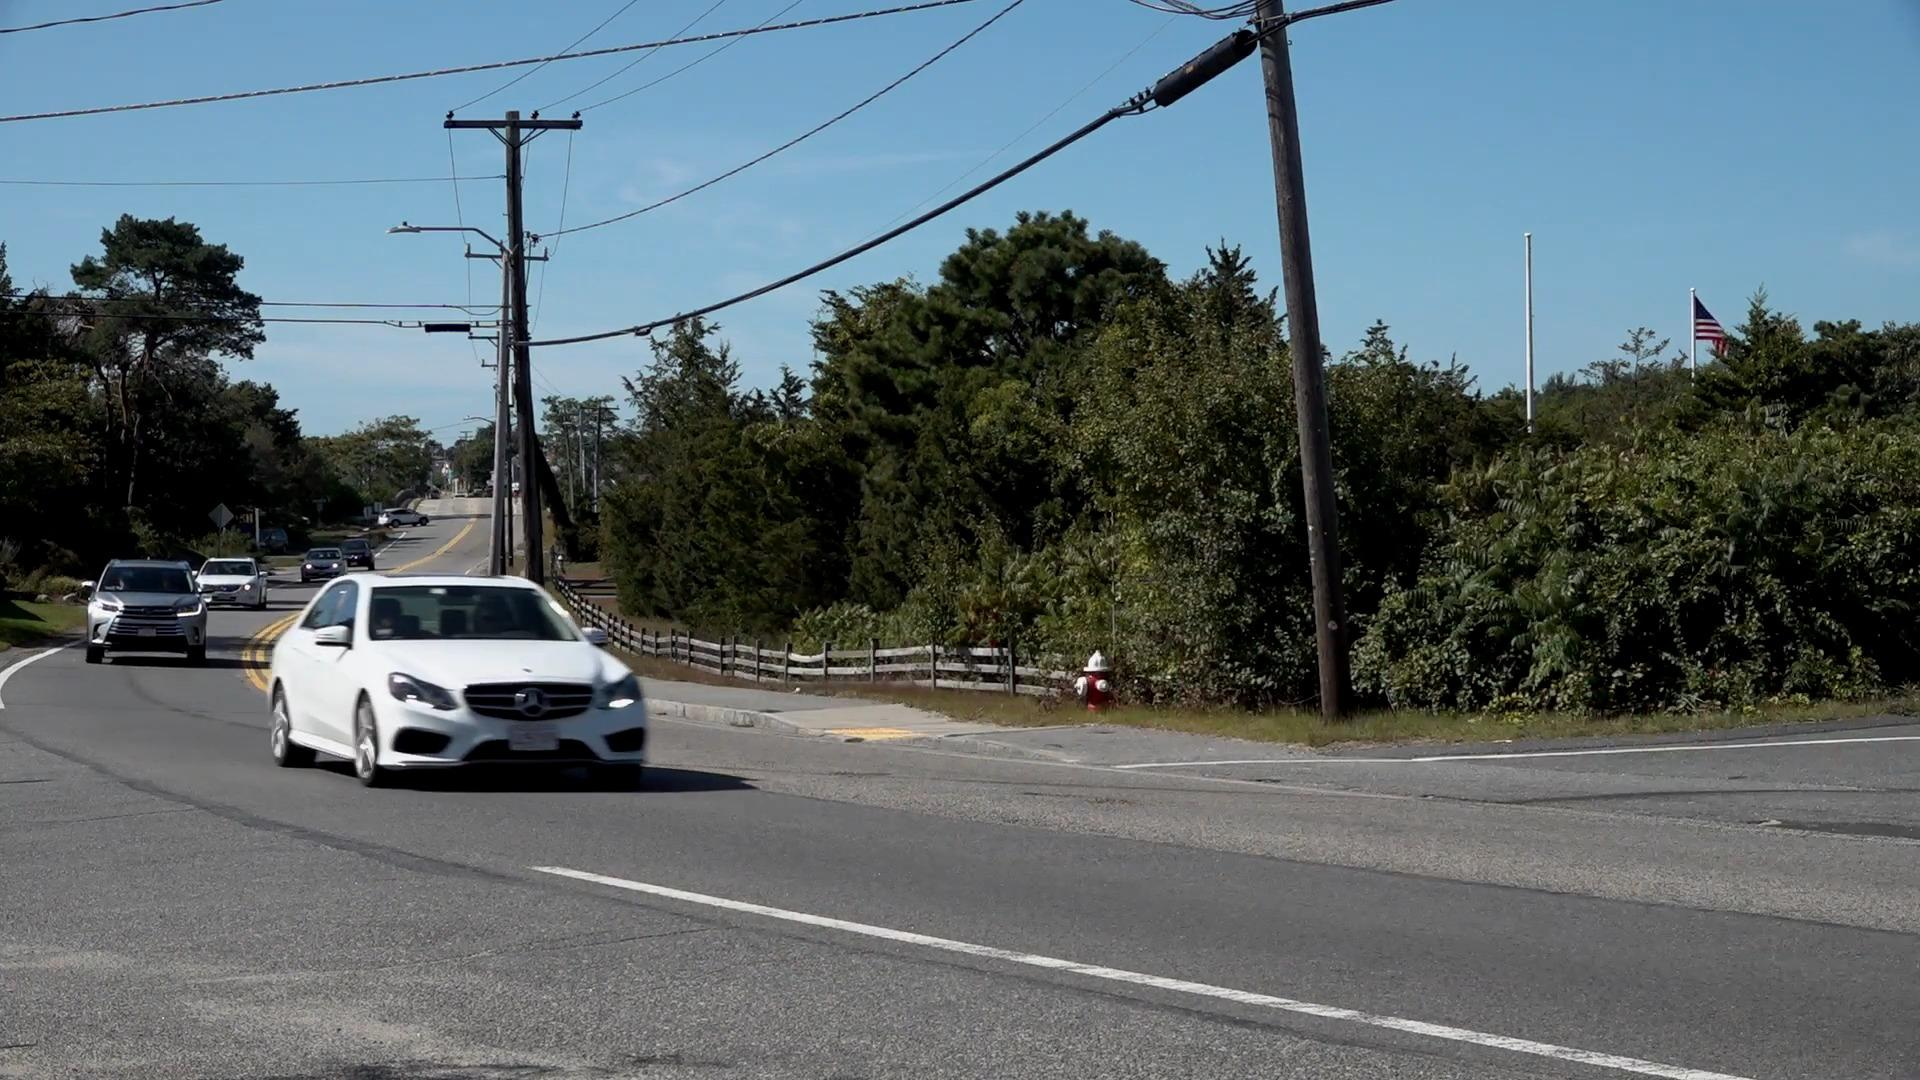sedans: (270, 572, 649, 785)
suv: (87, 559, 211, 666)
